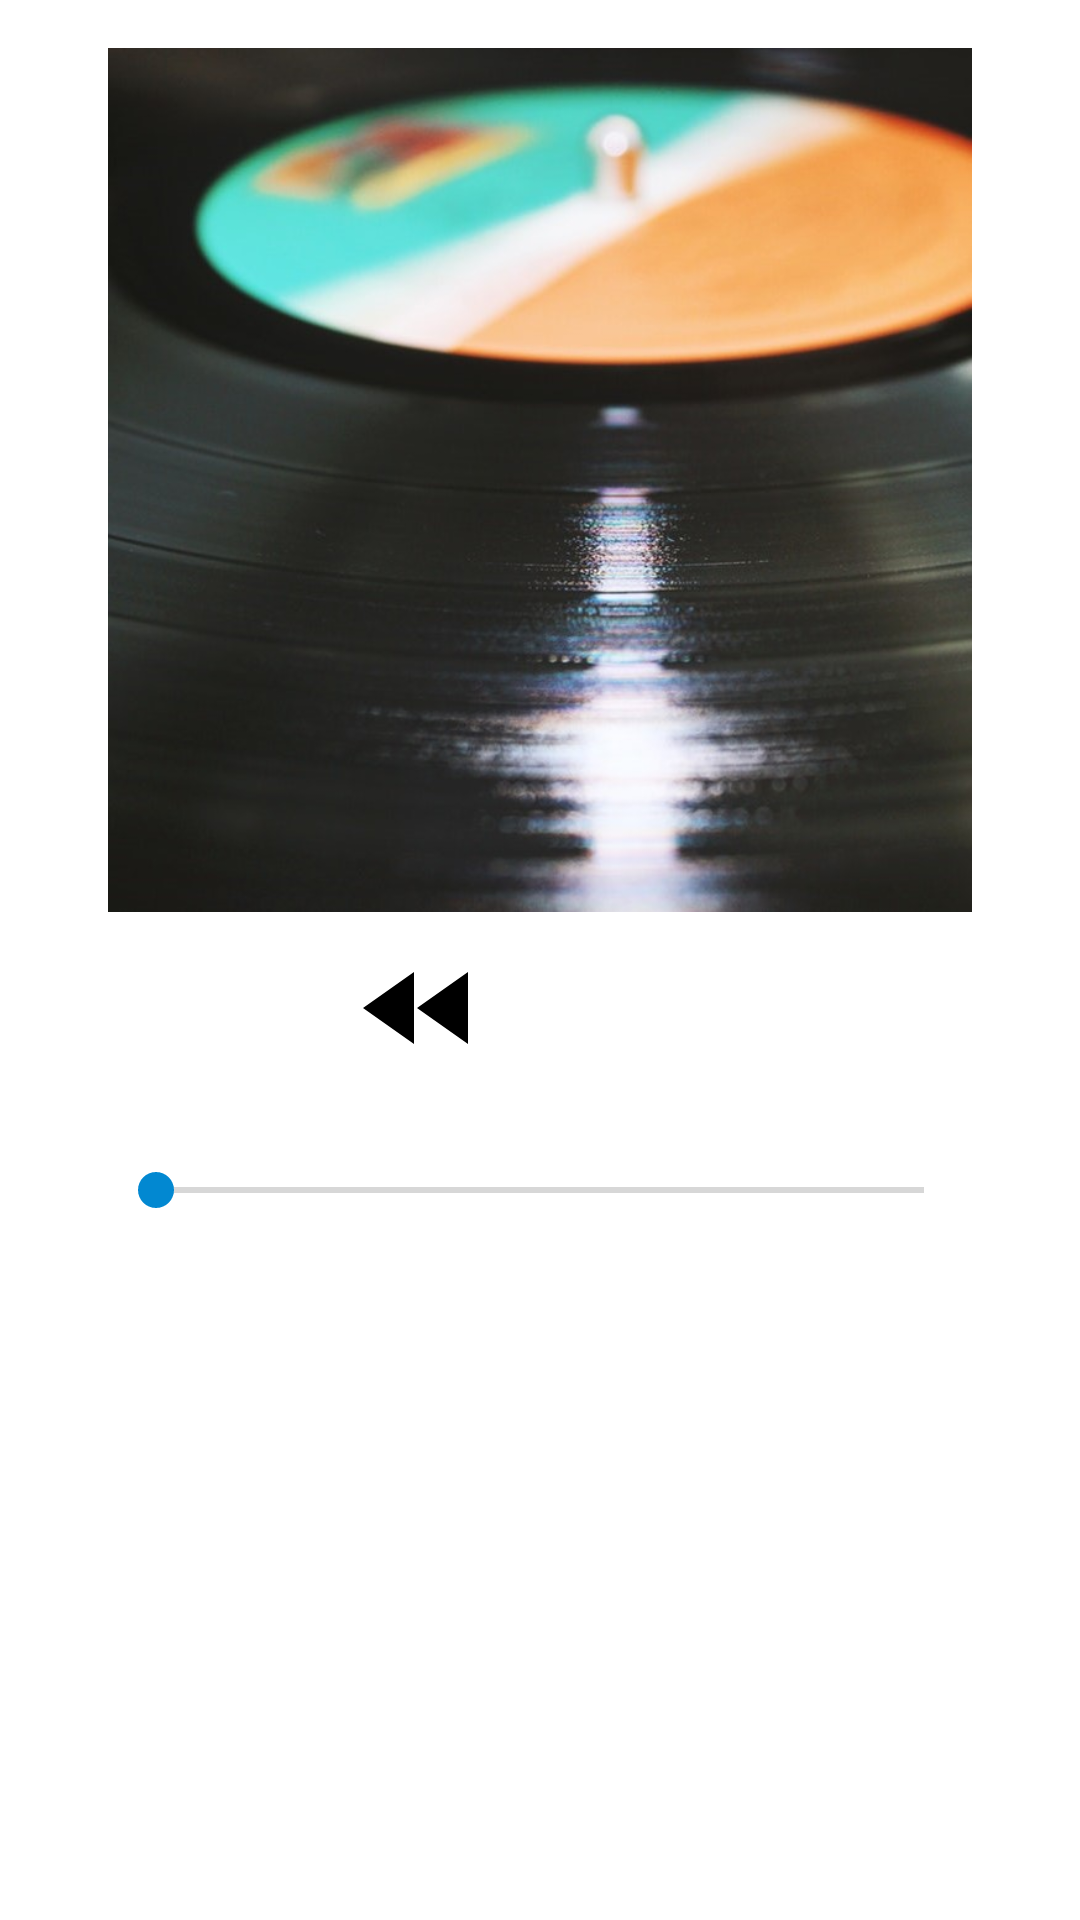

Icon bounding boxes for this 1080 × 1920 phone screenshot, format (x1, y1, x2, y2):
Rewind button: (363, 972, 468, 1044)
